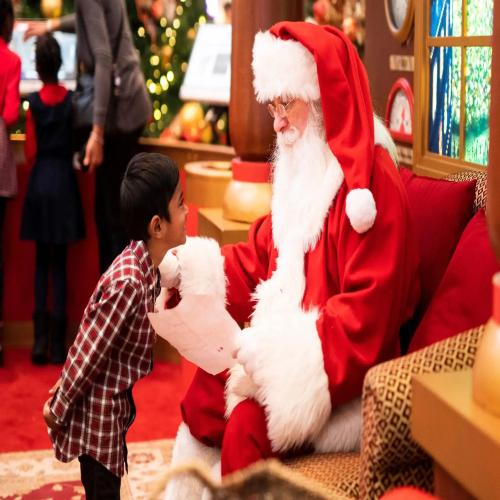Santa: (154, 22, 422, 500)
